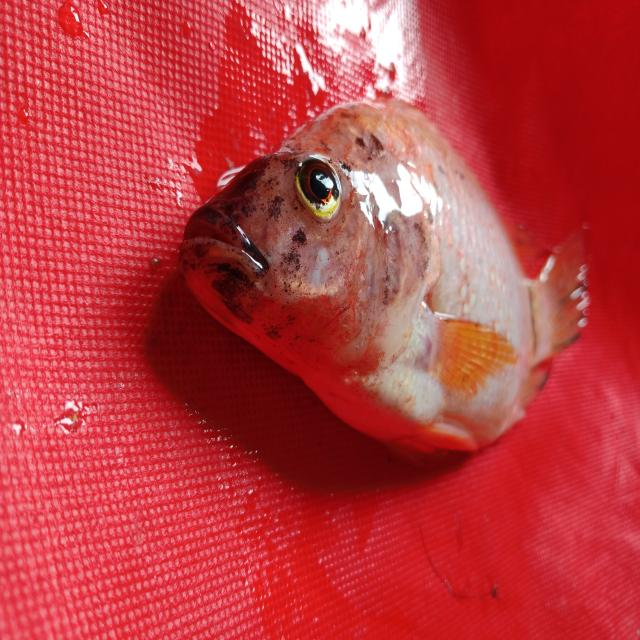ikan: (163, 86, 602, 470)
